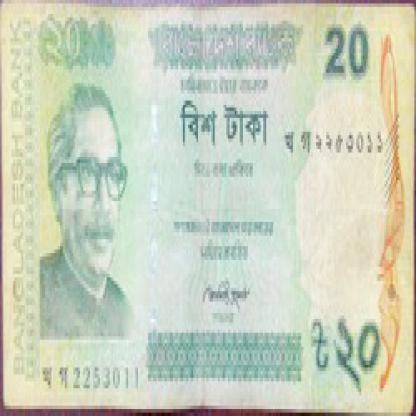Twenty: (168, 94, 280, 156), (310, 315, 384, 398), (318, 18, 378, 84), (44, 17, 112, 66)
